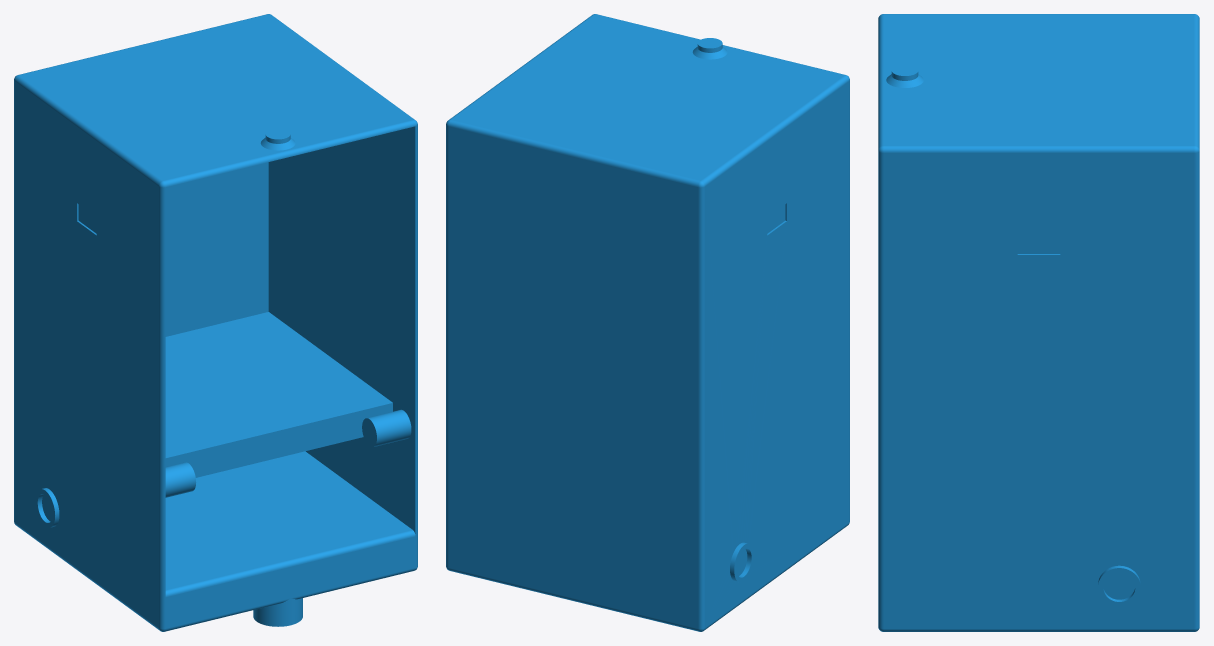
Rendered from body.dae.
The picture shows the model from 3 angles, left to right: view 1: azimuth 30°, elevation 25°; view 2: azimuth 150°, elevation 25°; view 3: azimuth 270°, elevation 25°; orthographic projection. The views are drawn at different scales.
Parts seen in each view (by area): view 1: ID2; view 2: ID2; view 3: ID2.
Boxes of the visible parts, <box> form: ID2: <box>14,14,417,631</box>; ID2: <box>446,14,849,631</box>; ID2: <box>878,14,1199,631</box>.
Bounding box in the file's own units: 0.31 × 0.3 × 0.535.
